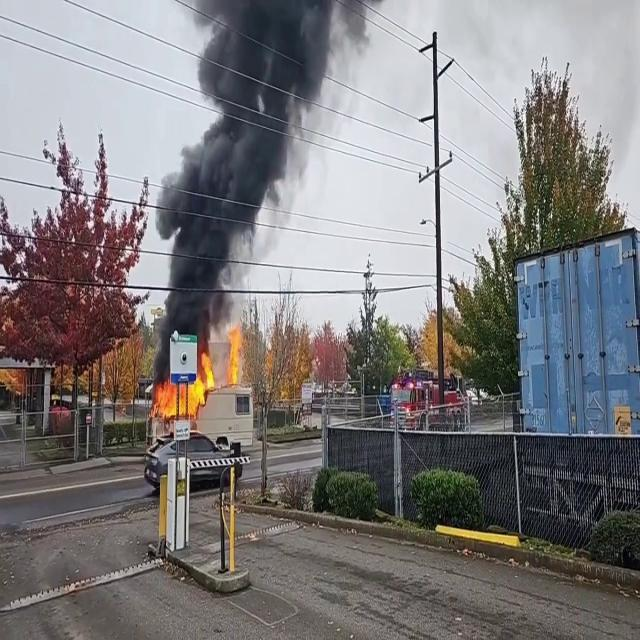Fire: (150, 350, 218, 422), (224, 313, 247, 386)
Smoke: (153, 1, 336, 350)
